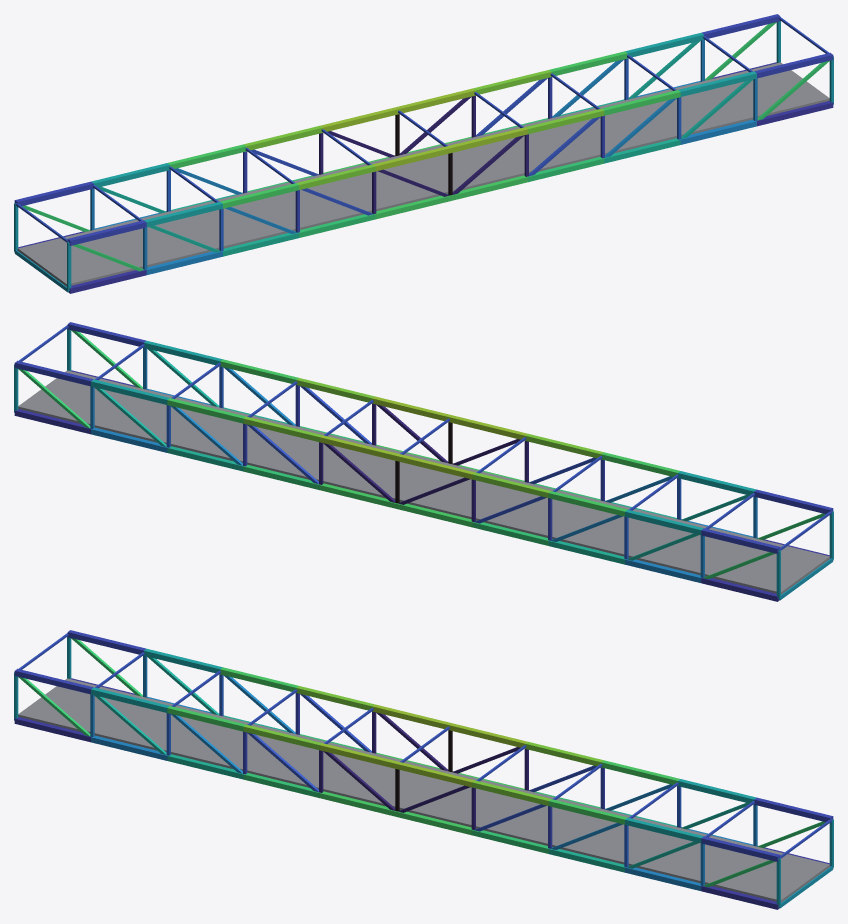
The model's file is 25_1.5_10_HEA200.glb.
3 views of the same model, one above another, from view 1: azimuth 30°, elevation 25°; view 2: azimuth 150°, elevation 25°; view 3: azimuth 330°, elevation 25° (orthographic).
Size of the model in its own units: 25.09 by 1.66 by 3.16.
